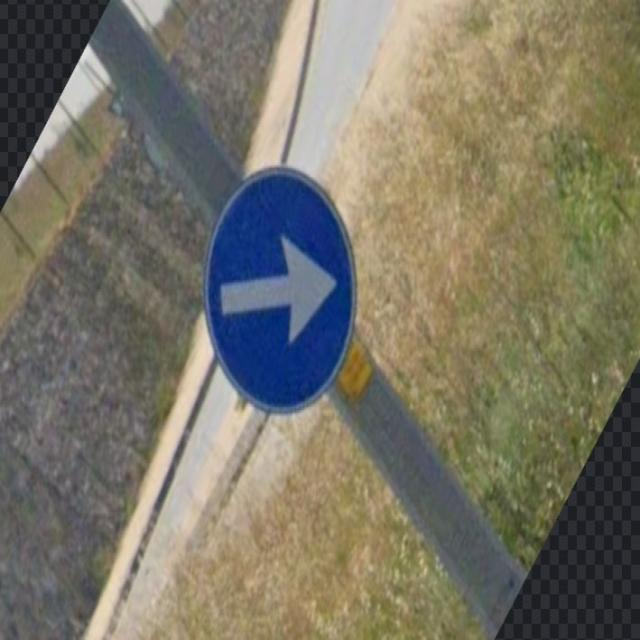Turn Right: (207, 172, 357, 405)
